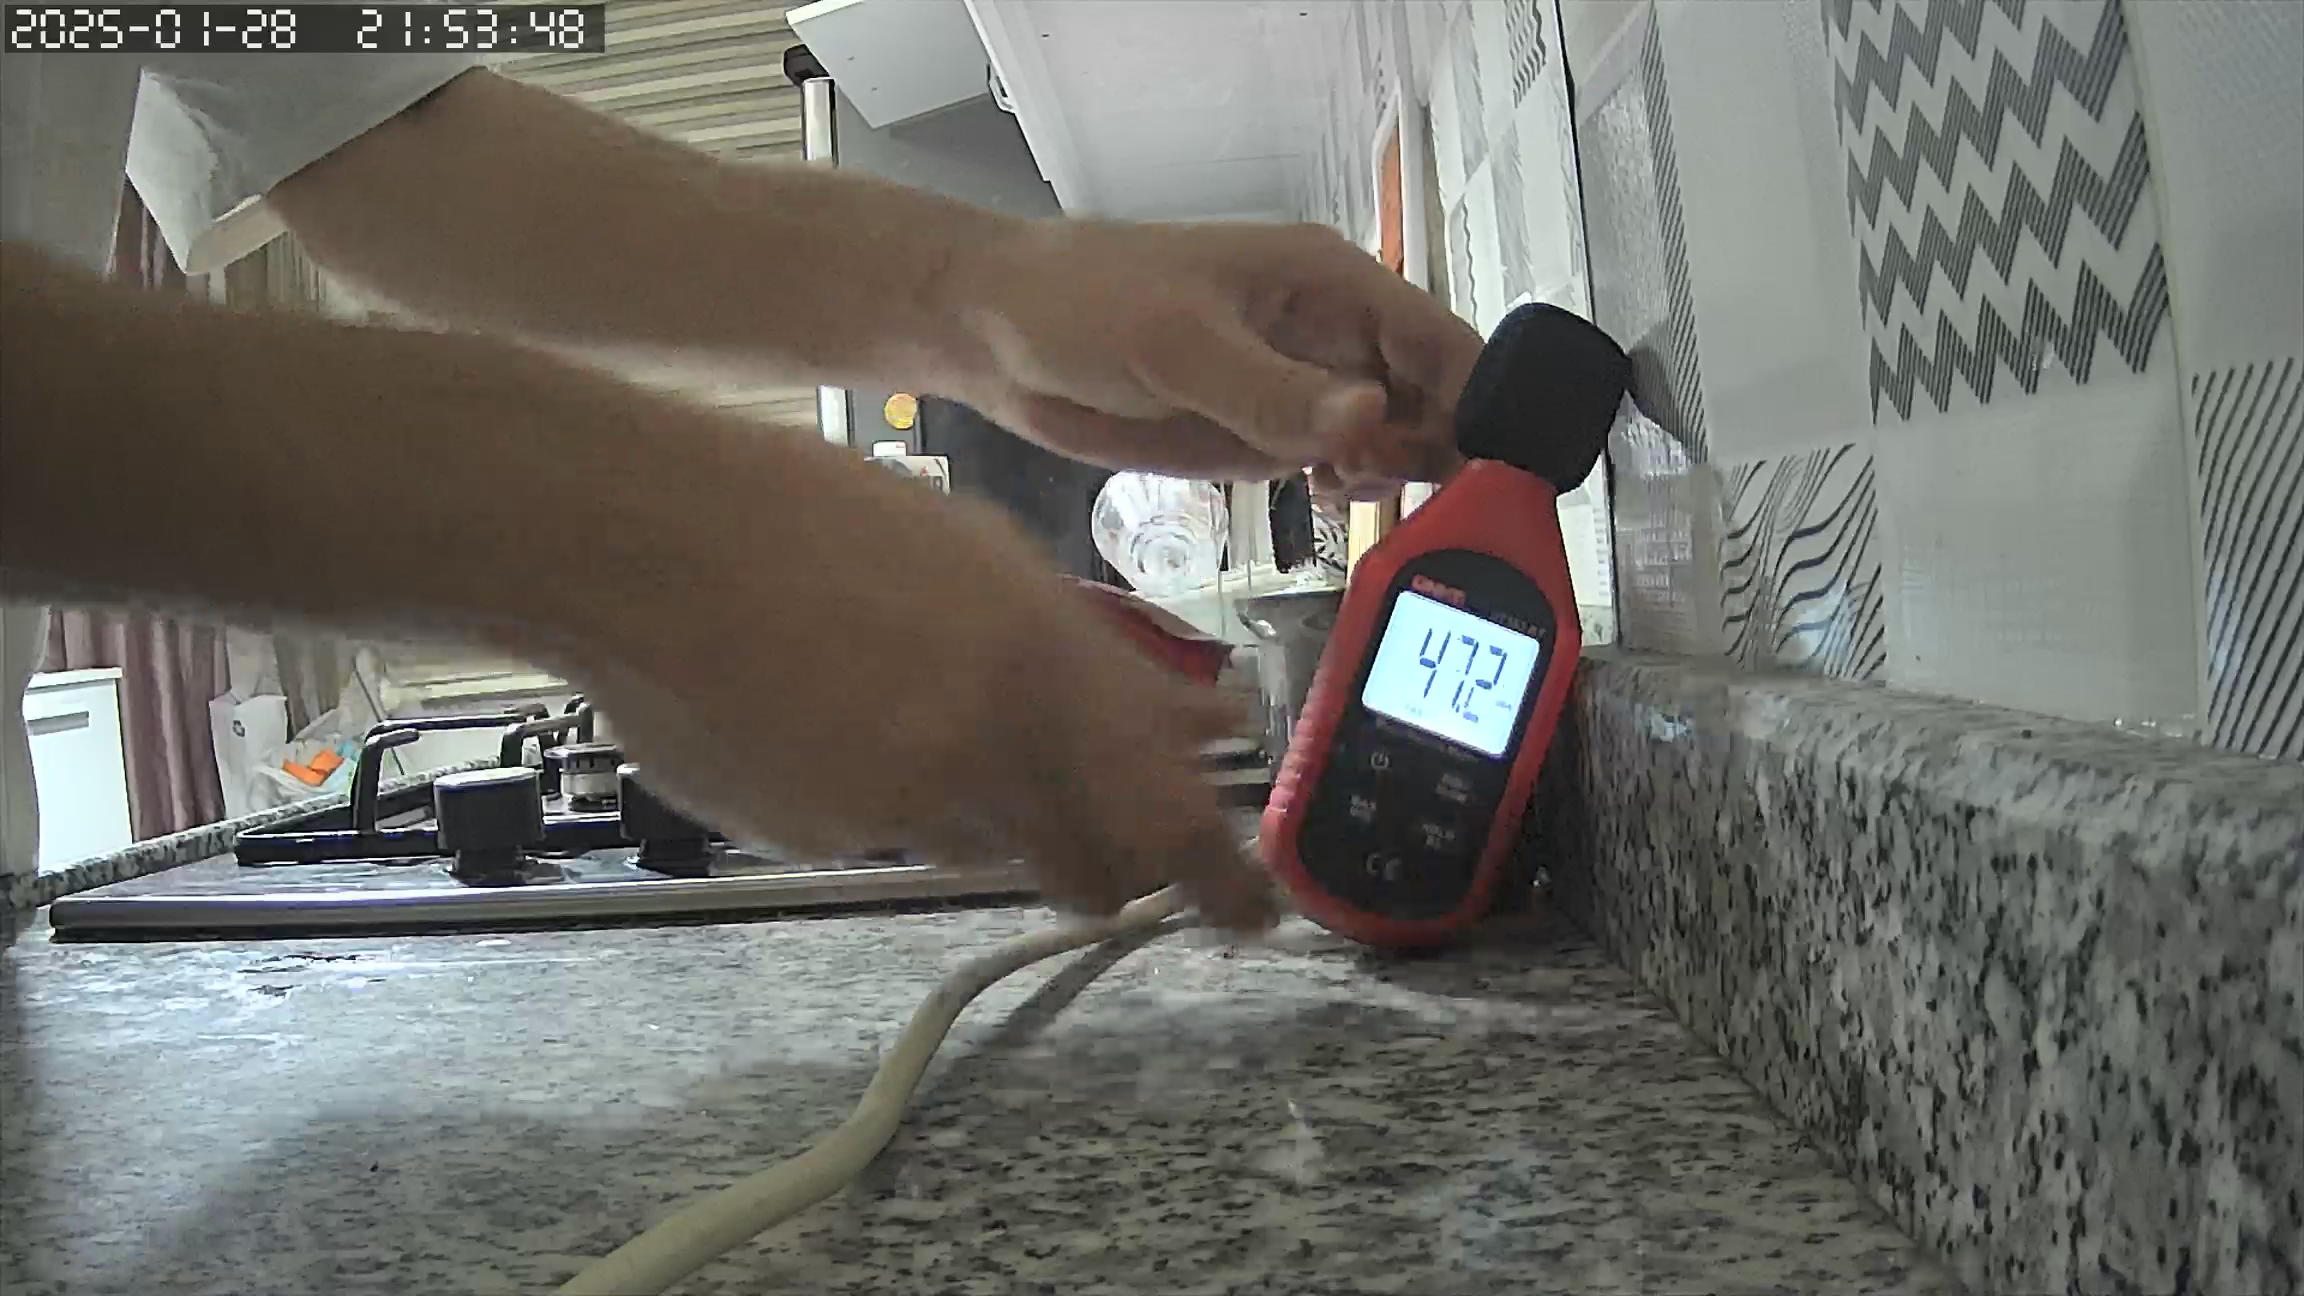screen: (1356, 590, 1541, 756)
